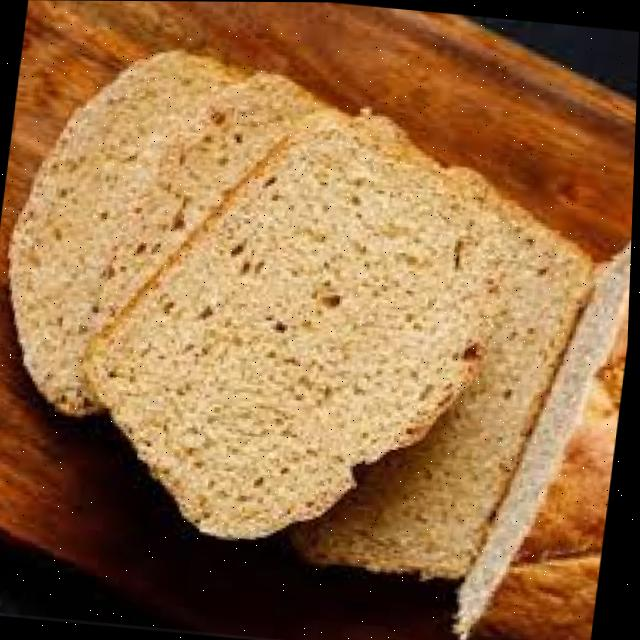Bread: (86, 120, 529, 535), (11, 51, 320, 411)
